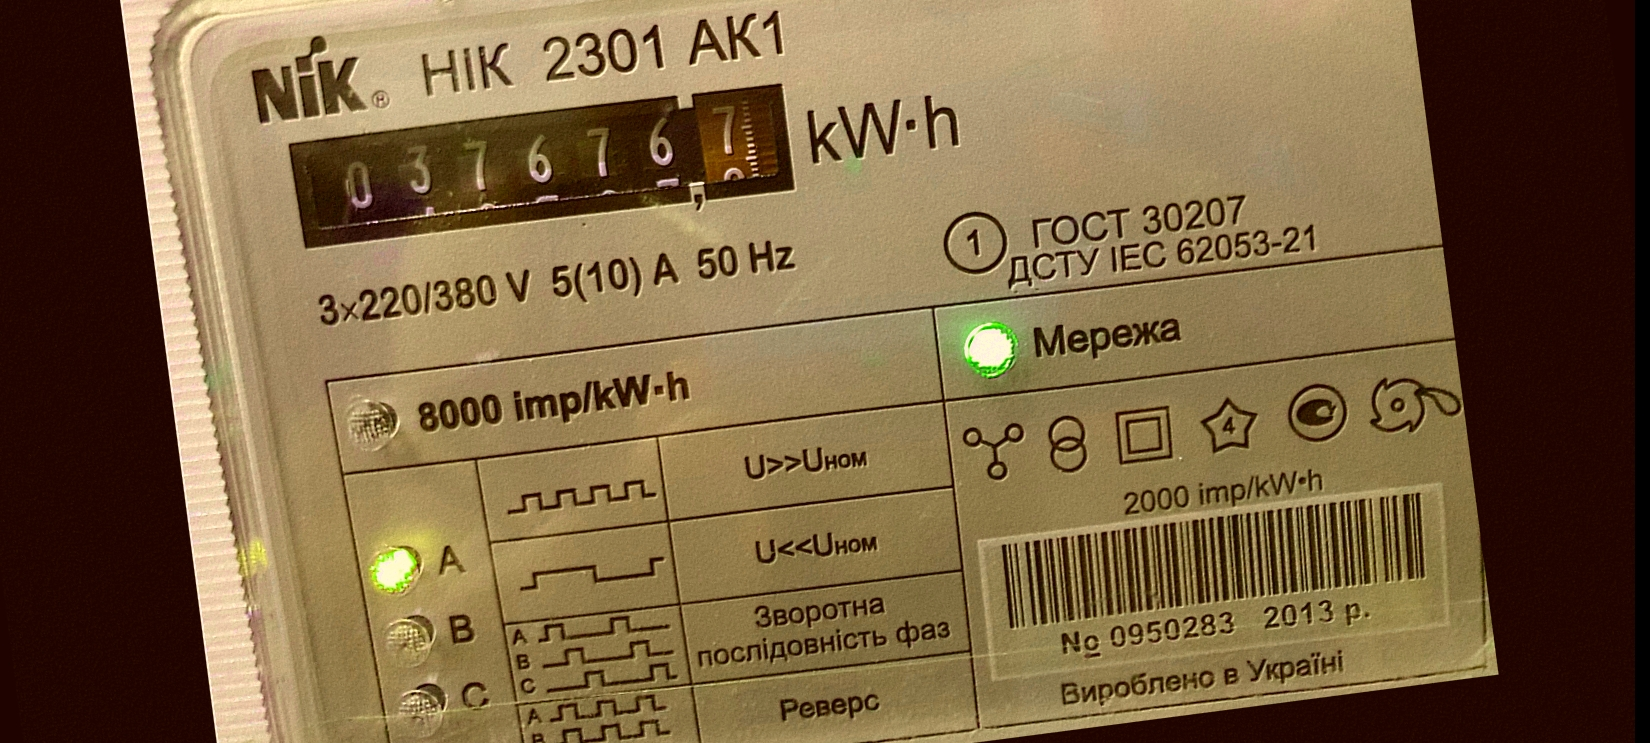0: (339, 154, 380, 213)
3: (401, 138, 436, 198)
6: (519, 128, 558, 185), (642, 111, 679, 169)
7: (581, 122, 619, 183), (459, 134, 497, 194), (709, 99, 744, 158)
screen: (271, 60, 814, 273)
